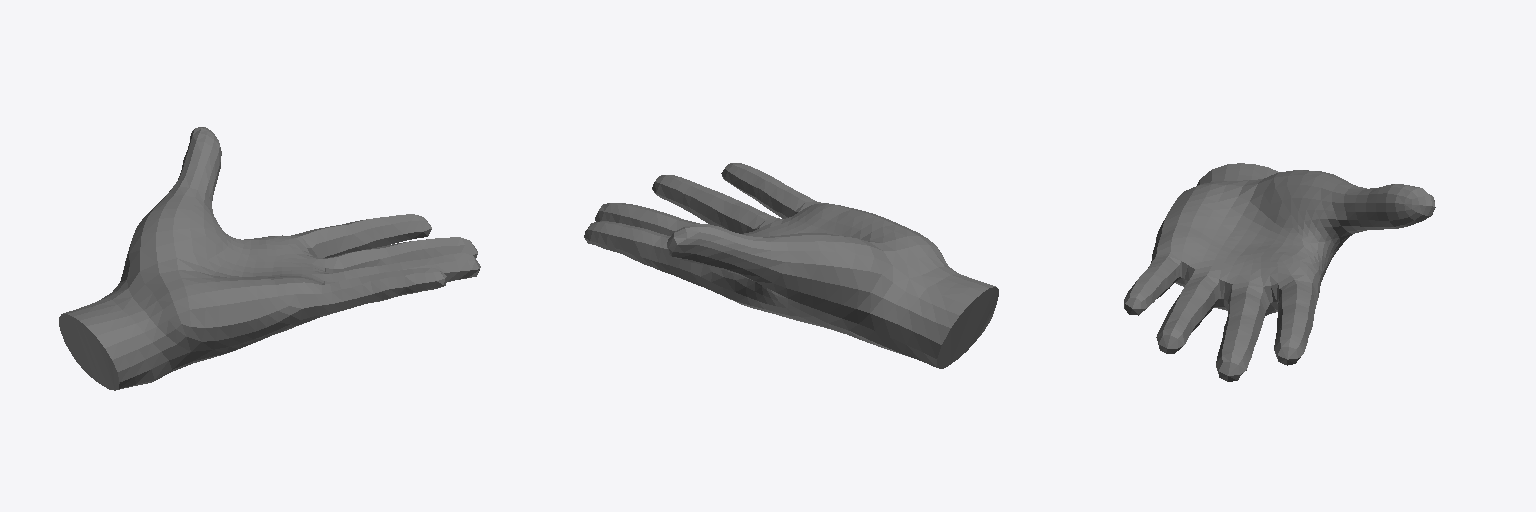
The model's file is main.obj.
3 views of the same model, side by side, from view 1: azimuth 30°, elevation 25°; view 2: azimuth 150°, elevation 25°; view 3: azimuth 270°, elevation 25° (orthographic).
Parts seen in each view (by area): view 1: l_handMeshNode_Mesh; view 2: l_handMeshNode_Mesh; view 3: l_handMeshNode_Mesh.
Part boxes in pixels (x1,y1,x2,y2): l_handMeshNode_Mesh: (59, 127, 480, 390); l_handMeshNode_Mesh: (584, 163, 998, 368); l_handMeshNode_Mesh: (1124, 163, 1435, 381).
Size of the model in its own units: 0.212 by 0.077 by 0.1459.